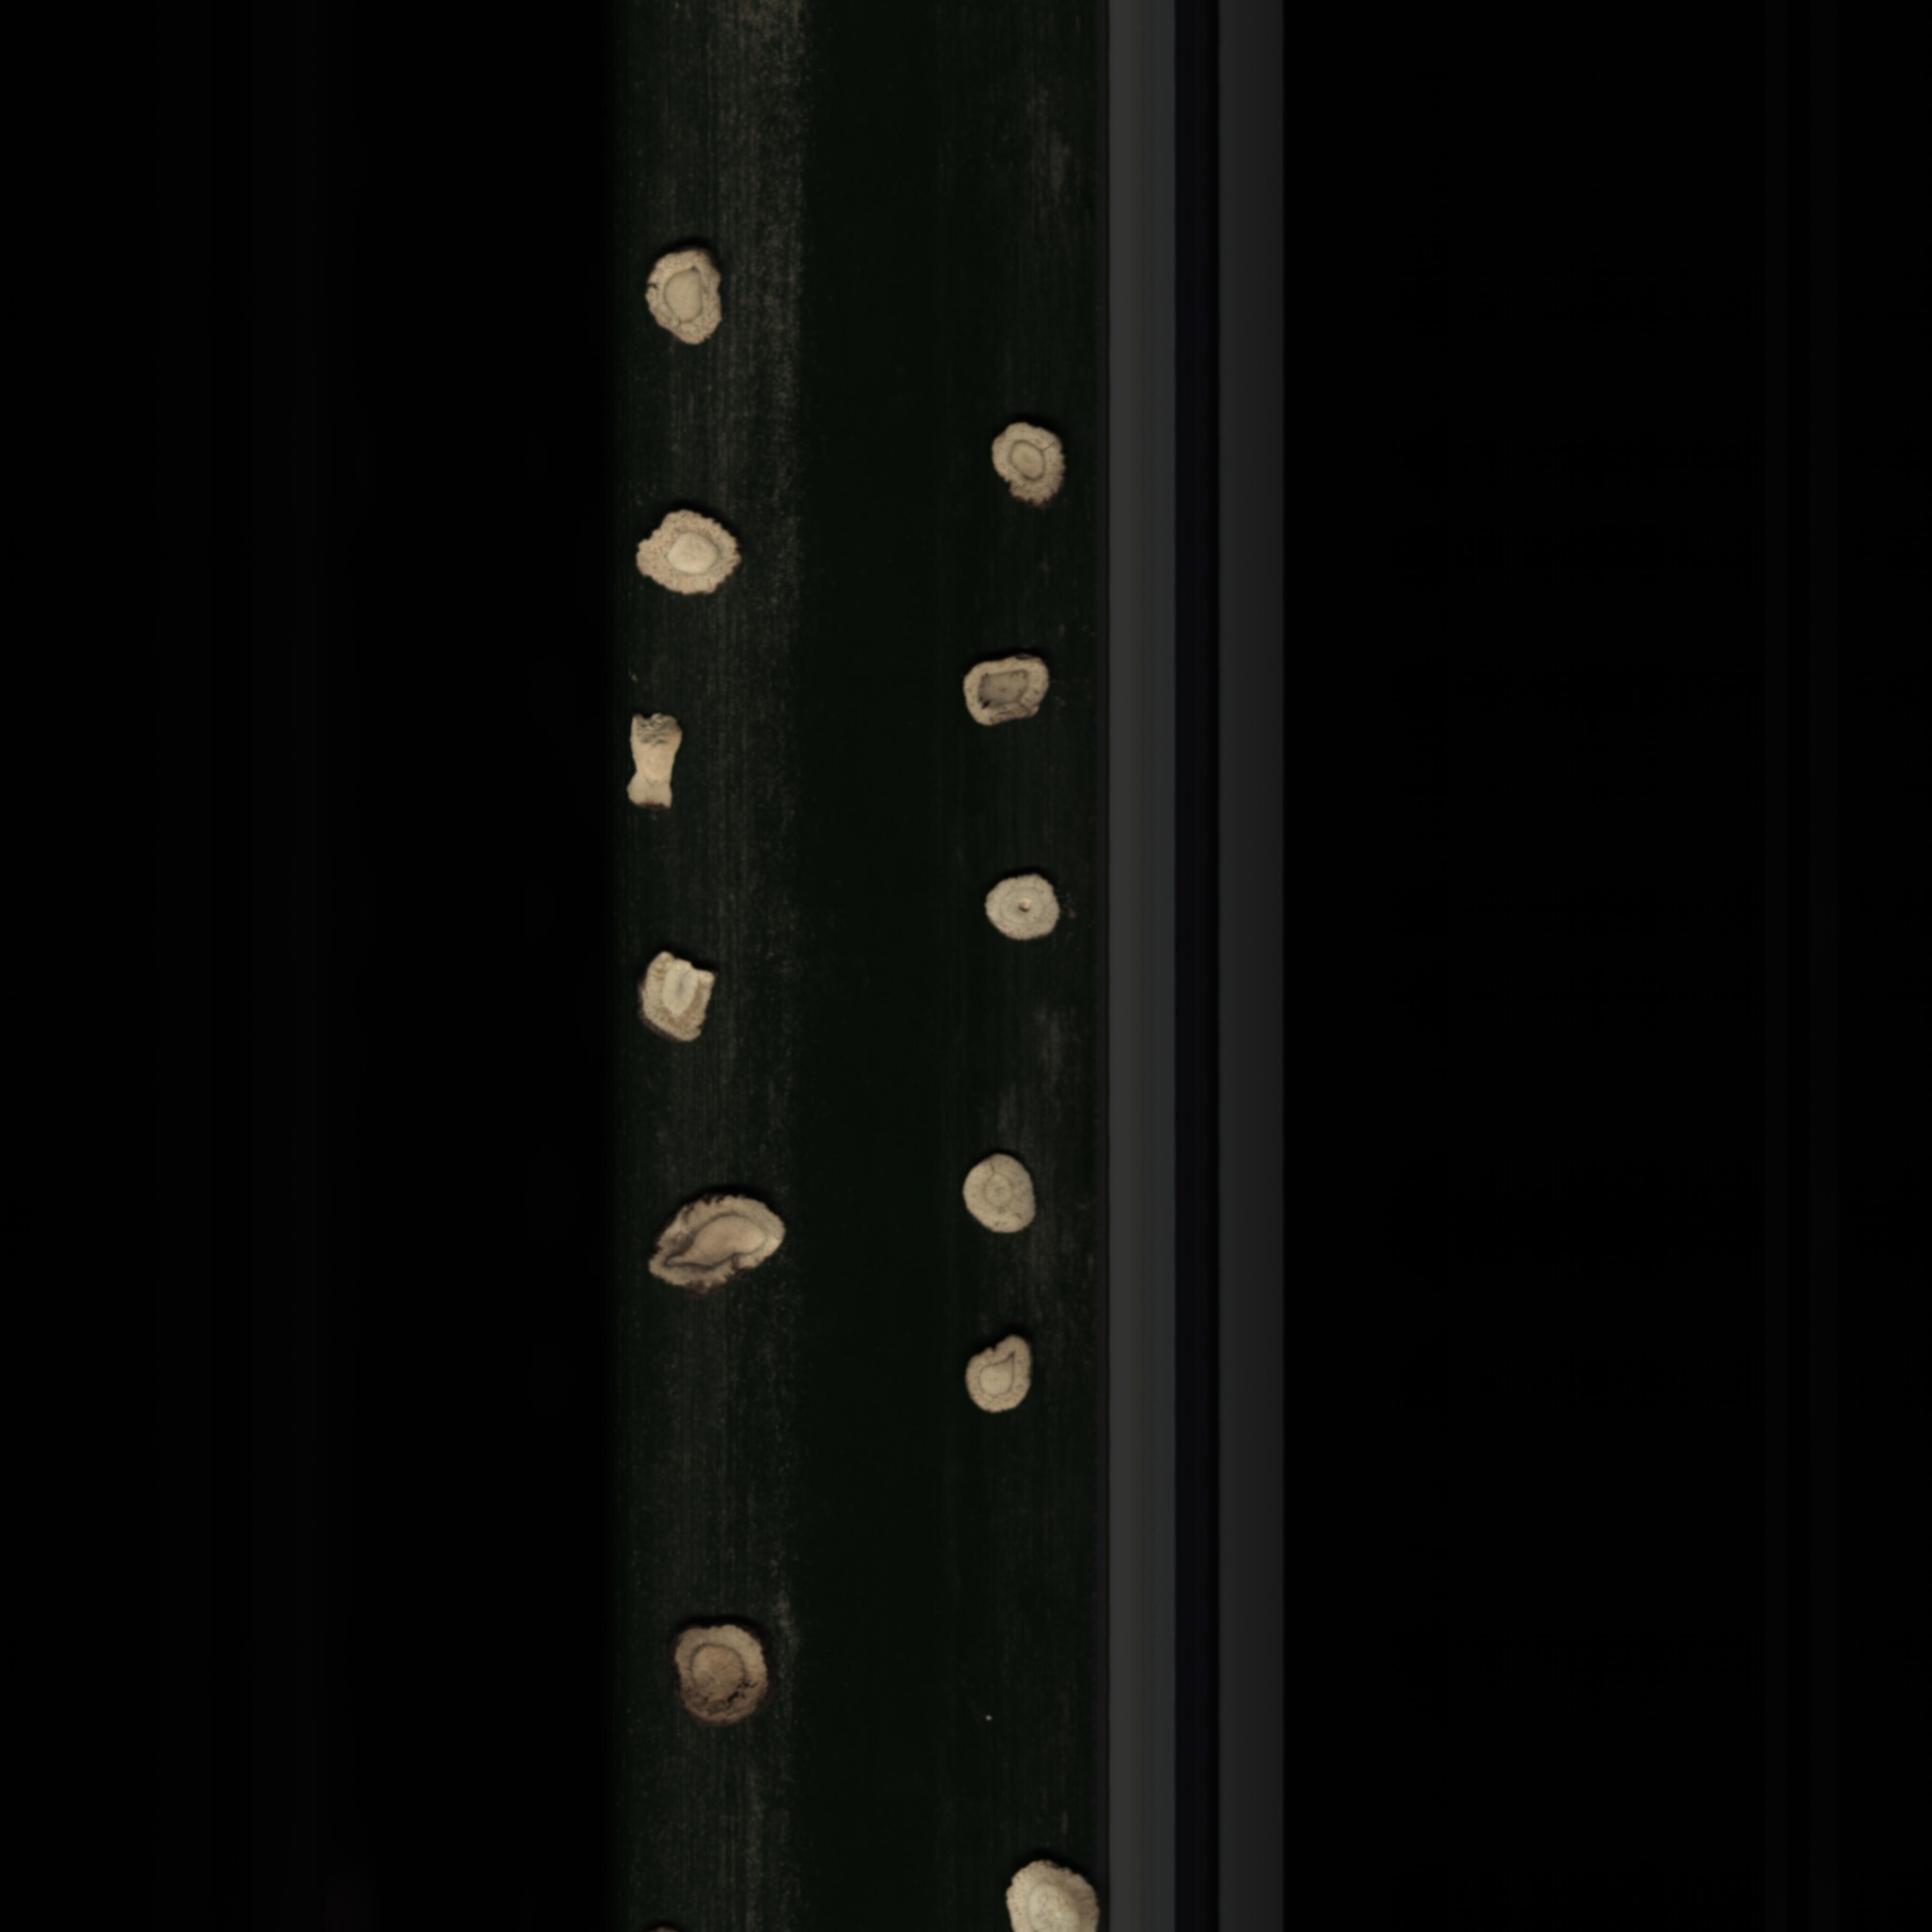debris: (605, 706, 694, 824), (632, 943, 722, 1056)
hole: (985, 870, 1074, 952)
moldy: (633, 1189, 798, 1309), (950, 651, 1065, 738), (984, 416, 1072, 515)
